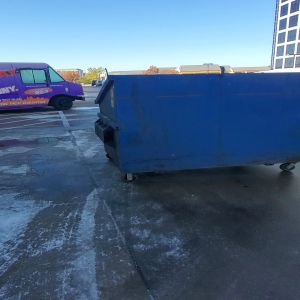Dumpster: (93, 74, 300, 184)
